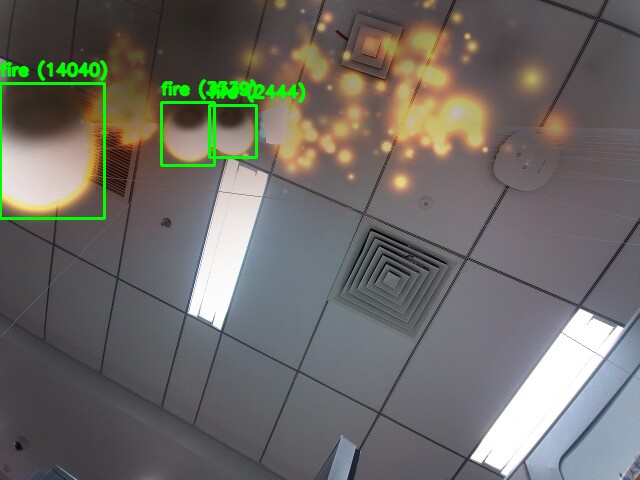fire: (0, 83, 104, 218), (161, 102, 214, 165), (209, 105, 256, 157)
